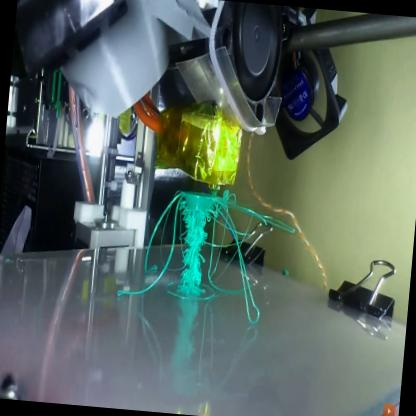fail: (202, 188, 298, 330)
